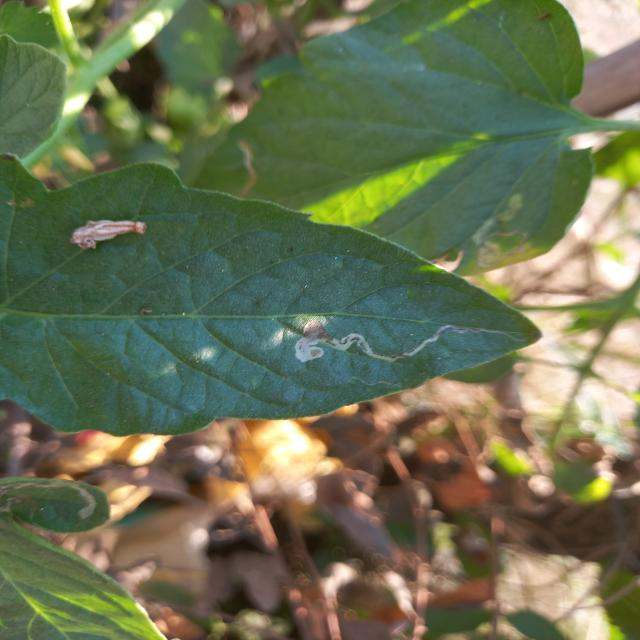Tuta absoluta: (295, 320, 485, 363)
